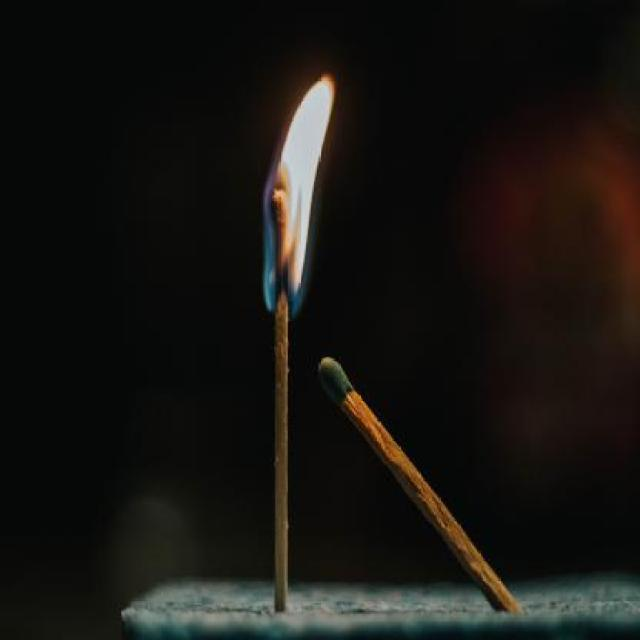fire: (263, 76, 335, 309)
